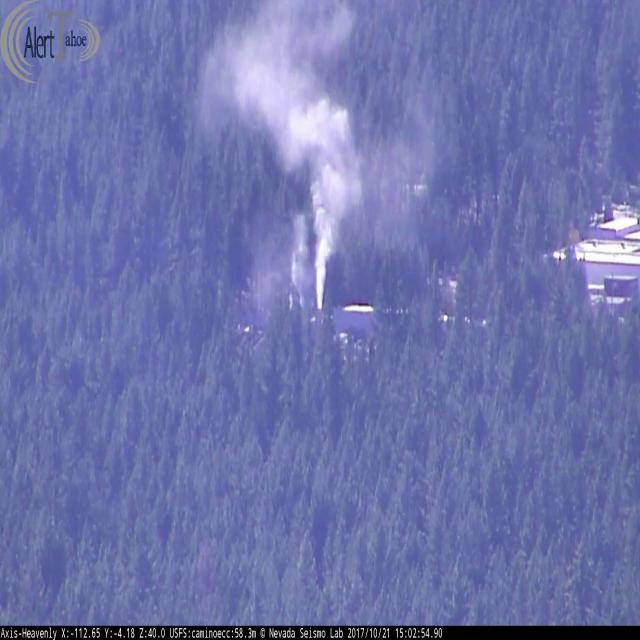smoke: (170, 0, 450, 333)
